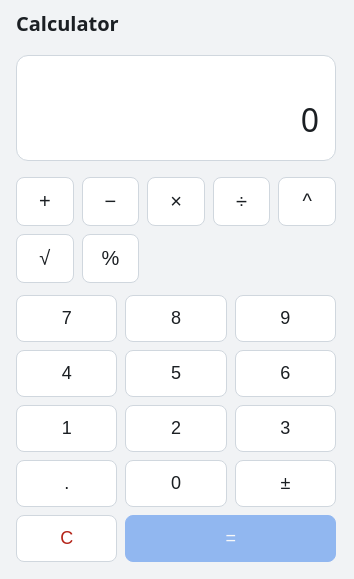
Test: App › applies a unary key to the displayed value as soon as it is pressed
Click the button "9": [285, 318] box x1=235 y1=295 x2=336 y2=342
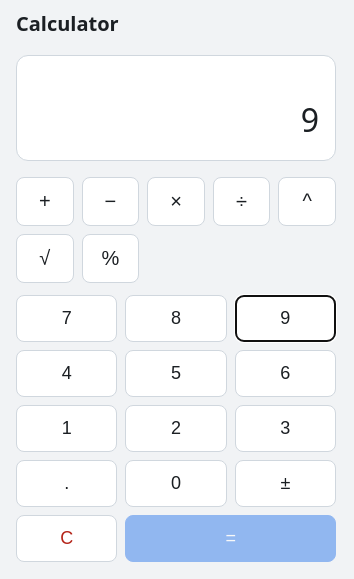
Click the button named "Square root": [45, 258] box x1=16 y1=234 x2=74 y2=283
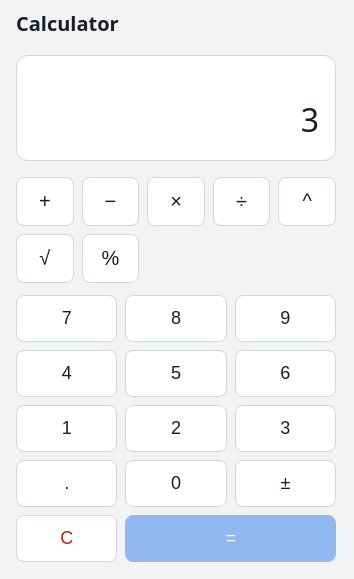
expect the text "3" is shown: met, box x1=301 y1=98 x2=319 y2=141
